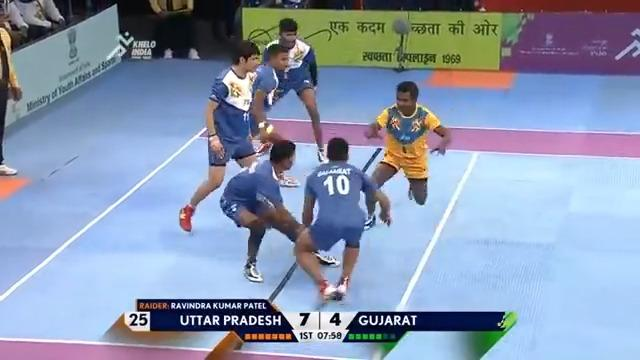Player: (178, 39, 270, 231), (219, 138, 340, 283), (293, 136, 392, 305), (260, 17, 326, 162), (247, 42, 300, 187), (0, 24, 22, 175)
Raider: (362, 80, 452, 228)
